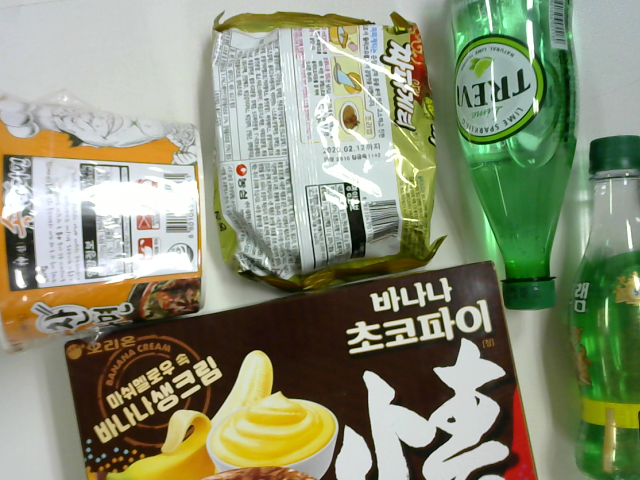Choco_Pie_Banana: (61, 268, 533, 480)
Hejangchan: (5, 84, 207, 350)
Olive_Chapaghetti: (207, 8, 439, 294)
Seagram_Lemon_Carbonated_Water: (565, 126, 636, 480)
Treviraim_500ml: (445, 2, 585, 310)
